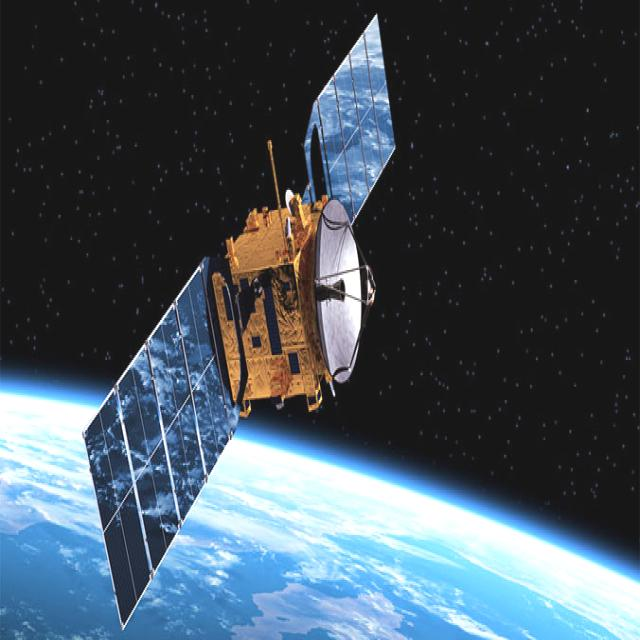medium_debris: (84, 18, 395, 626)
